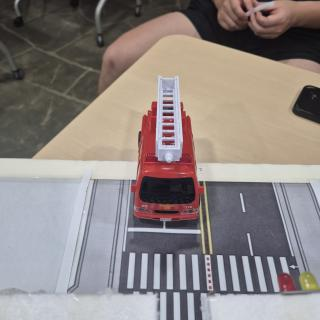Fire_truck: (131, 76, 204, 221)
